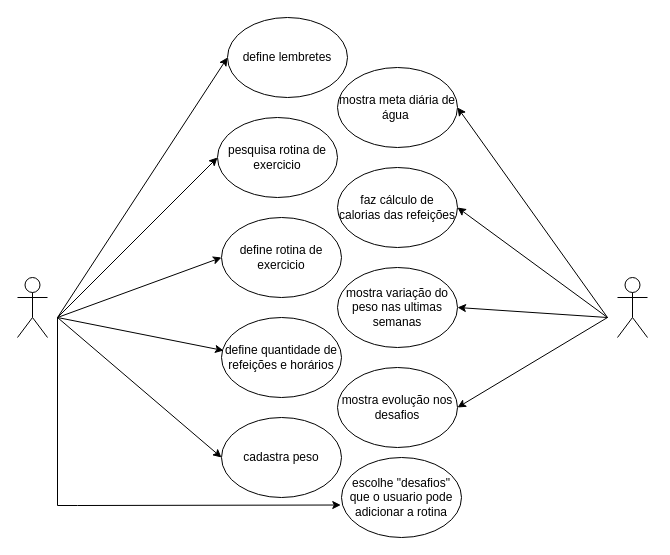
The diagram is 670 pixels wide and 555 high, and some of its shapes have lost their labels. Each missing label, with the centre of its shape:
"sistema" goes at point 632,307.
"user" goes at point 32,307.
